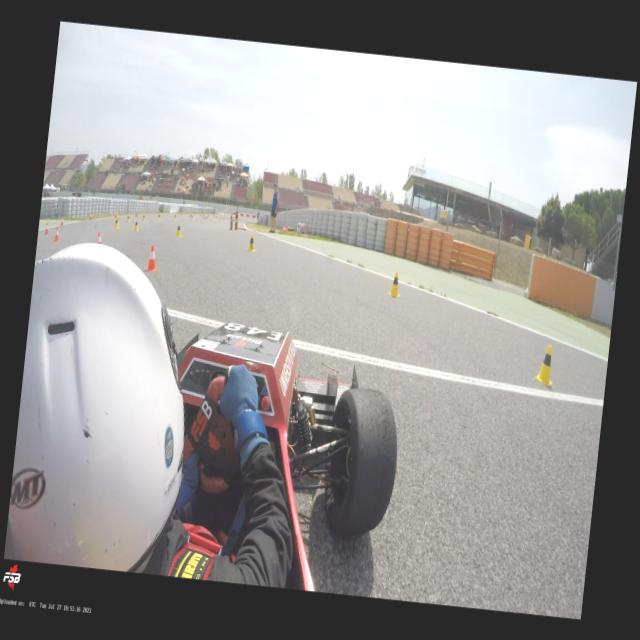orange_cone: (144, 244, 160, 272), (54, 226, 60, 242), (96, 232, 102, 244), (44, 222, 49, 235), (60, 217, 64, 226), (89, 213, 91, 220), (135, 210, 137, 217), (115, 212, 116, 218)
yellow_cone: (534, 344, 556, 386), (387, 271, 402, 297), (247, 232, 257, 252), (174, 222, 182, 237), (133, 218, 139, 230), (114, 218, 120, 228), (116, 214, 120, 223), (126, 215, 130, 222), (142, 213, 146, 220), (157, 214, 160, 220), (173, 214, 176, 219)
